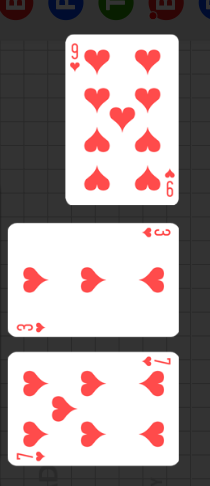7H: (15, 449, 47, 462)
9H: (163, 166, 176, 198), (69, 42, 81, 73)
